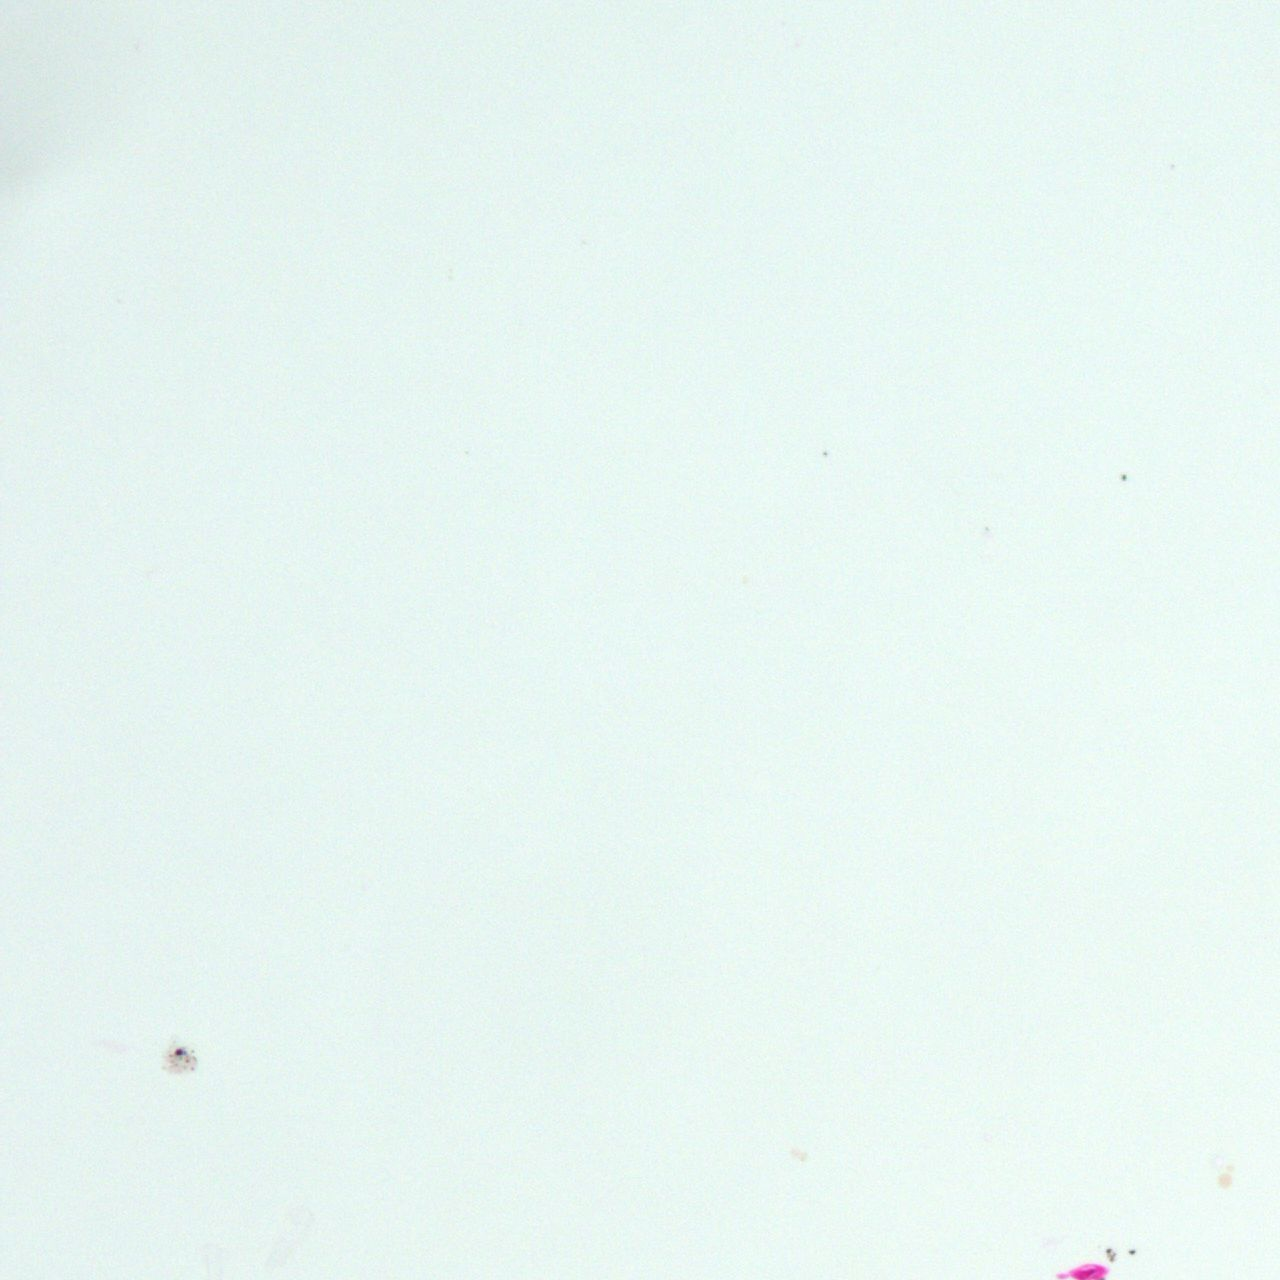dust: (1116, 474, 1132, 485), (817, 447, 829, 461), (173, 1047, 185, 1058), (171, 1060, 181, 1068), (1128, 1248, 1136, 1255), (190, 1056, 198, 1063), (1107, 1257, 1115, 1262), (1105, 1248, 1112, 1254), (188, 1065, 195, 1071), (166, 1054, 173, 1058), (184, 1058, 189, 1063), (191, 1049, 195, 1053)
